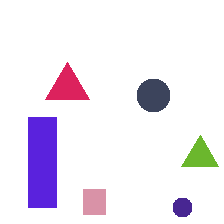circle: (137, 79, 169, 111), (173, 198, 191, 216)
rectangle: (28, 117, 56, 207), (83, 189, 105, 214)
triangle: (45, 62, 89, 99), (181, 135, 218, 166)
